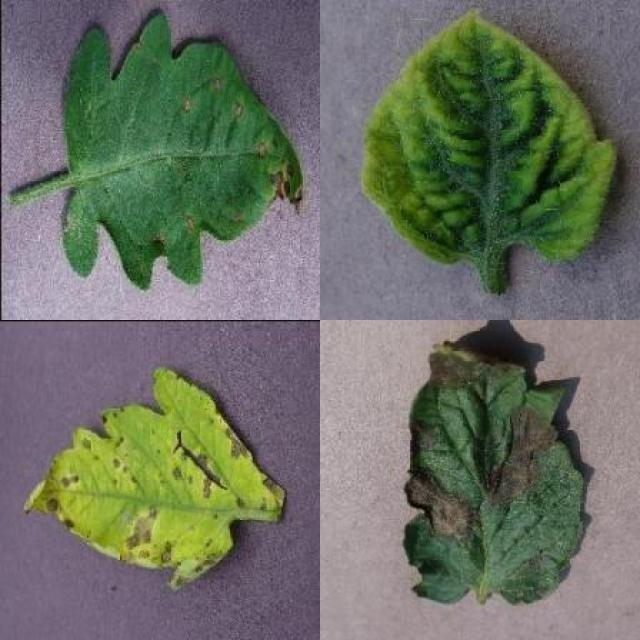Late Blight: (400, 338, 590, 612)
Septoria: (61, 14, 306, 292), (23, 367, 286, 587)
Yellow Leaf Curl Virus: (360, 13, 619, 266)
